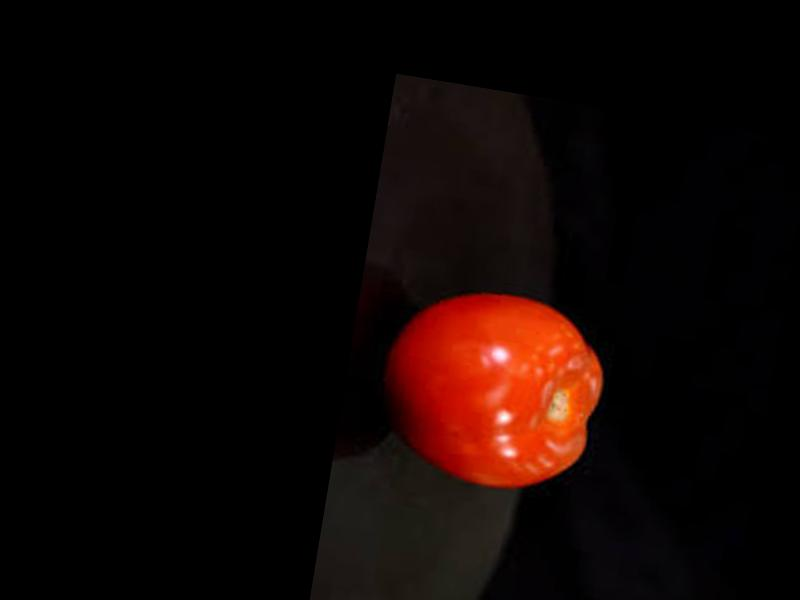Tomato: (374, 275, 615, 501)
